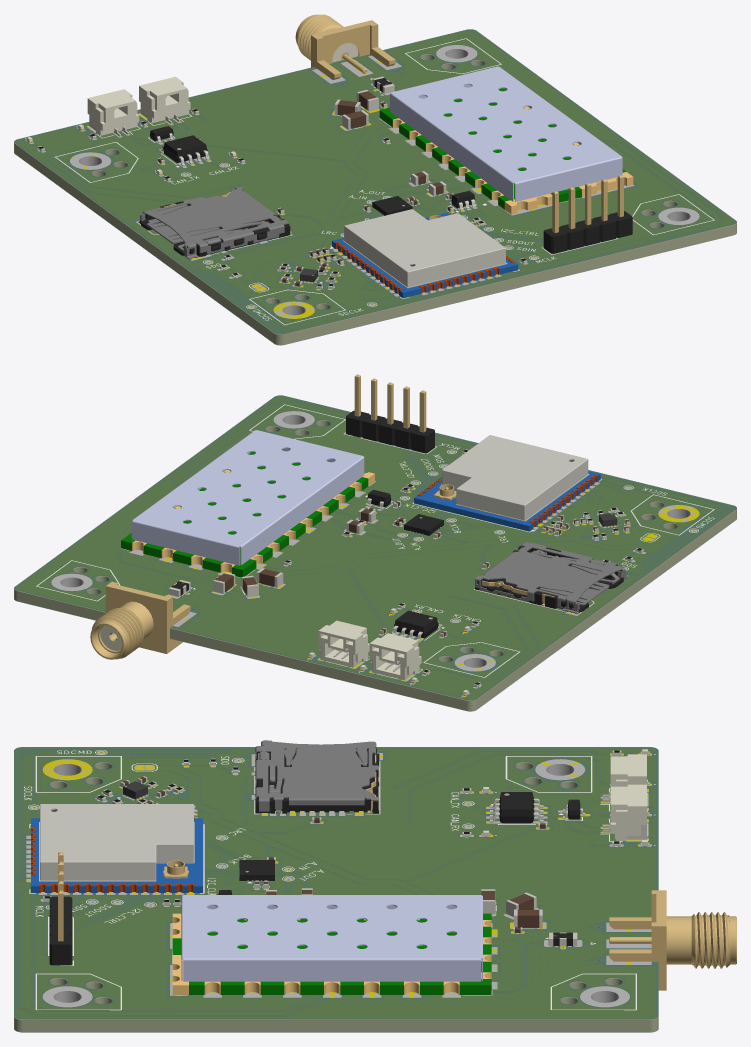
Rendered from radio.glb.
3 views of the same model, one above another, from view 1: azimuth 30°, elevation 25°; view 2: azimuth 150°, elevation 25°; view 3: azimuth 270°, elevation 25° (orthographic). The views are drawn at different scales.
Visible parts, largest first — view 1: object 65, =>[0:1:1:19], object 45, object 59, =>[0:1:1:15], =>[0:1:1:17] (×2); view 2: object 65, =>[0:1:1:19], object 45, object 59, =>[0:1:1:15], =>[0:1:1:17] (×2); view 3: object 65, =>[0:1:1:19], object 45, object 59, =>[0:1:1:15], =>[0:1:1:17] (×2), =>[0:1:1:25].
Boxes of the visible parts, bbox=[...] form: object 65: bbox=[14, 29, 736, 345]; =>[0:1:1:19]: bbox=[379, 66, 633, 214]; object 45: bbox=[150, 76, 632, 288]; object 59: bbox=[295, 14, 623, 297]; =>[0:1:1:15]: bbox=[138, 186, 290, 259]; =>[0:1:1:17] (×2): bbox=[87, 76, 190, 136]; object 65: bbox=[14, 395, 736, 711]; =>[0:1:1:19]: bbox=[121, 430, 374, 577]; object 45: bbox=[169, 410, 589, 641]; object 59: bbox=[90, 374, 600, 659]; =>[0:1:1:15]: bbox=[475, 542, 627, 614]; =>[0:1:1:17] (×2): bbox=[318, 620, 421, 680]; object 65: bbox=[14, 747, 658, 1032]; =>[0:1:1:19]: bbox=[172, 895, 491, 994]; object 45: bbox=[39, 792, 585, 965]; object 59: bbox=[31, 817, 736, 990]; =>[0:1:1:15]: bbox=[255, 740, 379, 813]; =>[0:1:1:17] (×2): bbox=[602, 754, 646, 840]; =>[0:1:1:25]: bbox=[514, 909, 542, 928].
Bounding box in the file's own units: 0.072 × 0.0121 × 0.0807.
